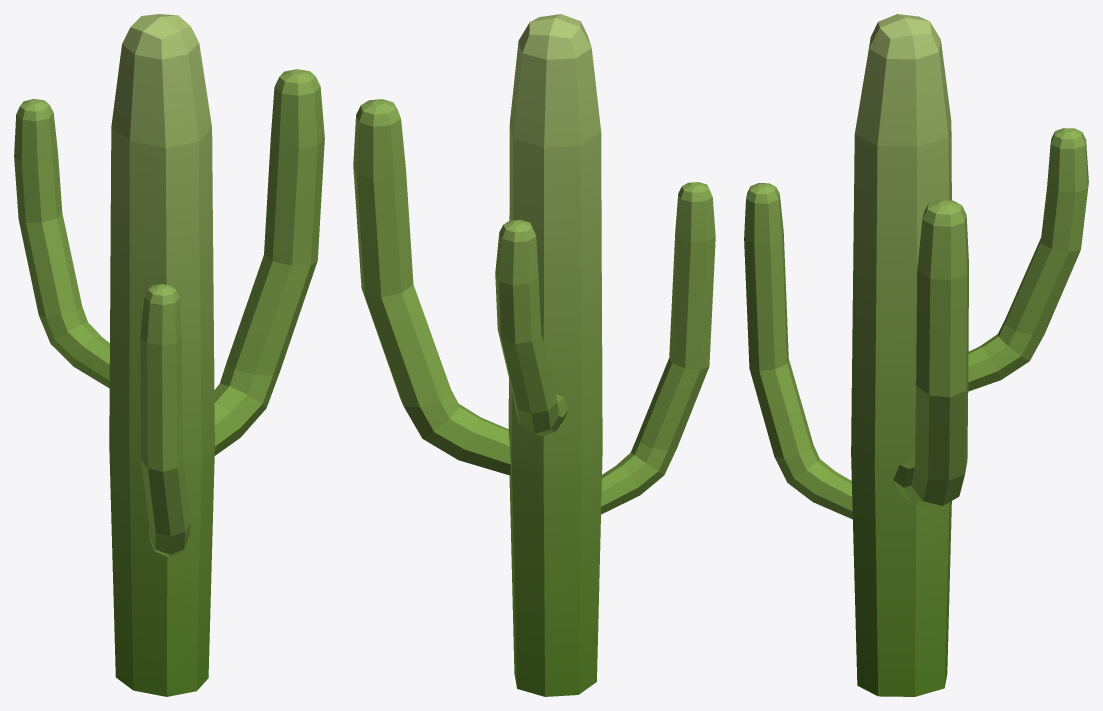
Rendered from Cactus03.glb.
The picture shows the model from 3 angles, left to right: view 1: azimuth 30°, elevation 25°; view 2: azimuth 150°, elevation 25°; view 3: azimuth 270°, elevation 25°; orthographic projection.
Parts seen in each view (by area): view 1: cactus_6; view 2: cactus_6; view 3: cactus_6.
Part boxes in pixels (x1,y1,x2,y2): cactus_6: (14, 14, 324, 696); cactus_6: (353, 14, 715, 696); cactus_6: (744, 14, 1088, 696).
Bounding box in the file's own units: 109 × 258 × 122.
1 material, 1 textured.
